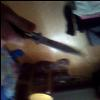melee: (20, 30, 82, 55)
